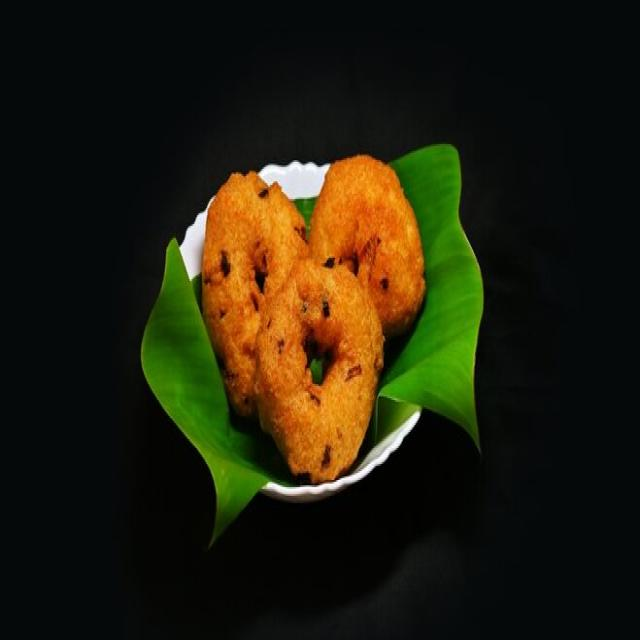MEDU VADA: (255, 254, 384, 482), (199, 172, 308, 401), (310, 155, 425, 330)
